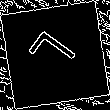L_SE: (26, 27, 84, 83)
